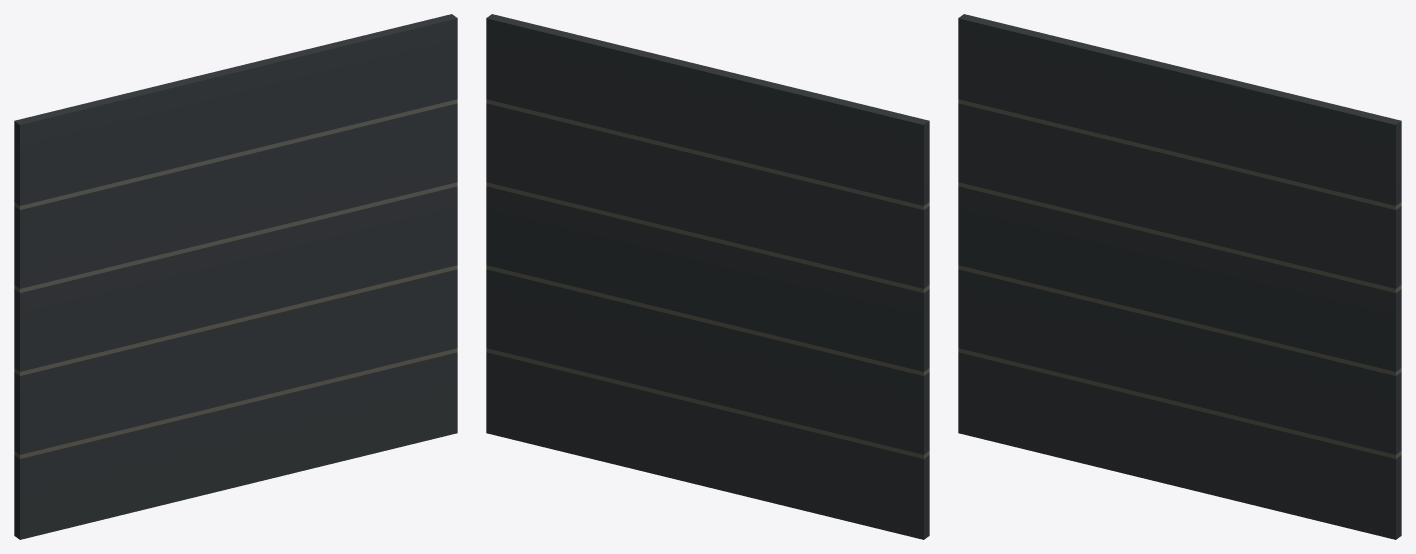
Rendered from Factory_03_02.fbx.
3 views of the same model, side by side, from view 1: azimuth 30°, elevation 25°; view 2: azimuth 150°, elevation 25°; view 3: azimuth 330°, elevation 25° (orthographic).
Visible parts, largest first — view 1: Factory_03_02; view 2: Factory_03_02; view 3: Factory_03_02.
Part boxes in pixels (box(x1,y1,x2,y2)): Factory_03_02: box(14, 14, 457, 539); Factory_03_02: box(486, 14, 929, 539); Factory_03_02: box(958, 14, 1401, 539).
Size of the model in its own units: 4.31 by 3.91 by 0.1.
